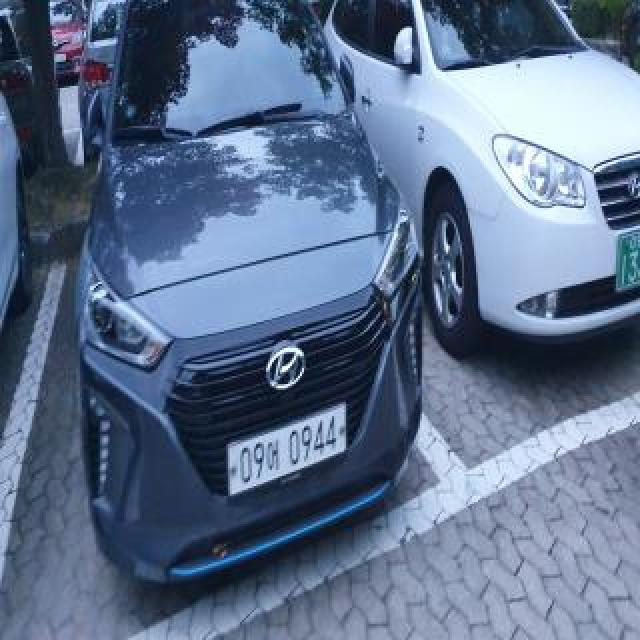car: (71, 0, 434, 593)
illegal_plate: (228, 403, 352, 497)
